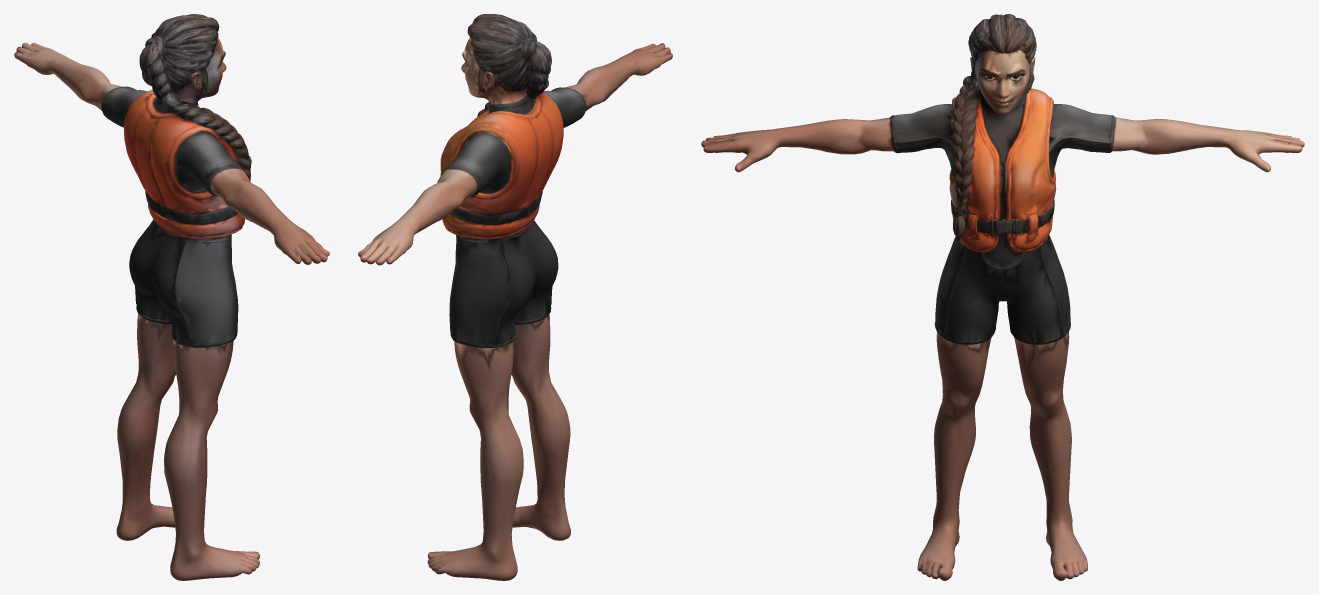
The model's file is the-charger.glb.
3 views of the same model, side by side, from view 1: azimuth 30°, elevation 25°; view 2: azimuth 150°, elevation 25°; view 3: azimuth 270°, elevation 25° (orthographic). The views are drawn at different scales.
Visible parts, largest first — view 1: the-charger; view 2: the-charger; view 3: the-charger.
Boxes of the visible parts, x1,y1,x2,y2 form: the-charger: (14,14,329,580); the-charger: (358,14,672,580); the-charger: (701,14,1304,580).
Bounding box in the file's own units: 0.1889 × 0.9772 × 0.981.
1 material, 1 textured.
